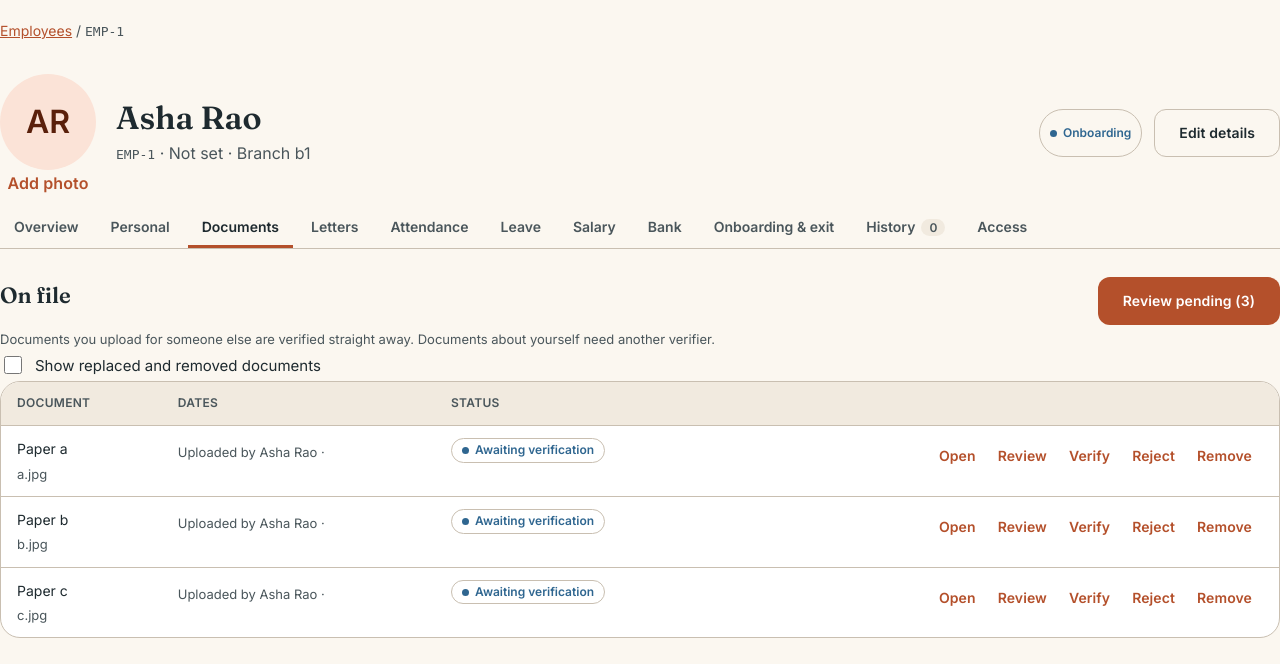
employee profile → Documents › keeps the review dialog open, and its place, when the refresh behind a decision fails
Click the button "Review pending (3)" at point(1189, 301), box [1098,277,1279,325]
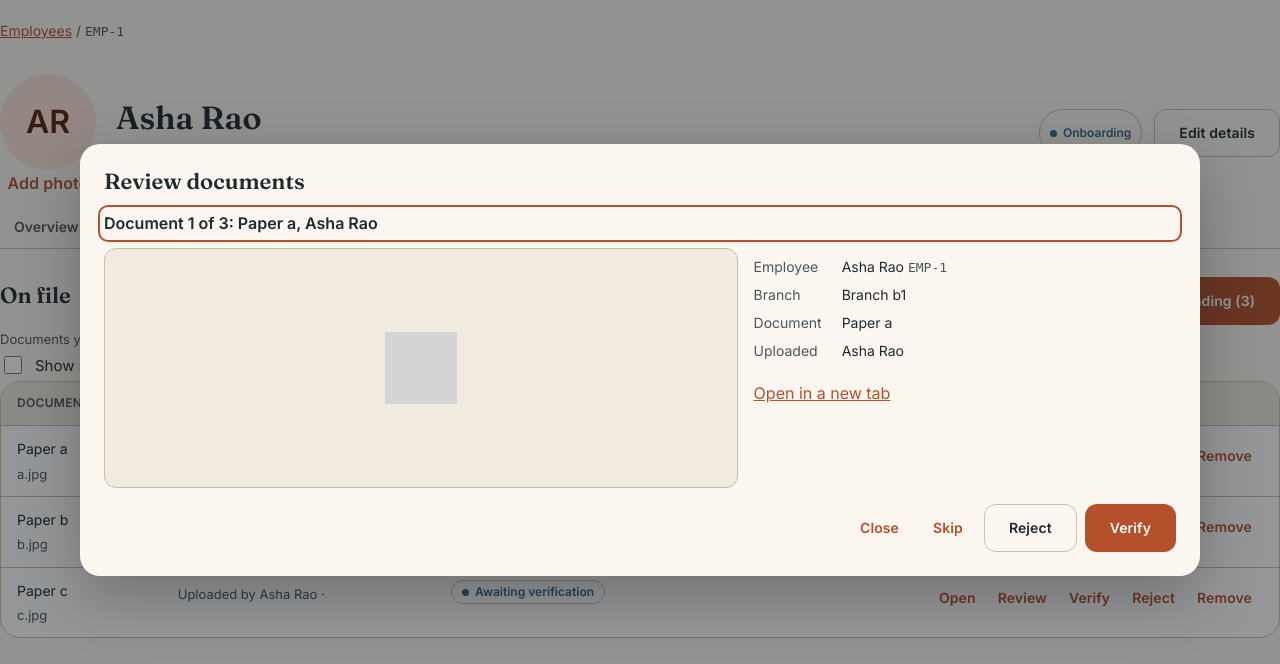
Click the button "Verify" at point(1130, 528), box [1085,504,1176,552]
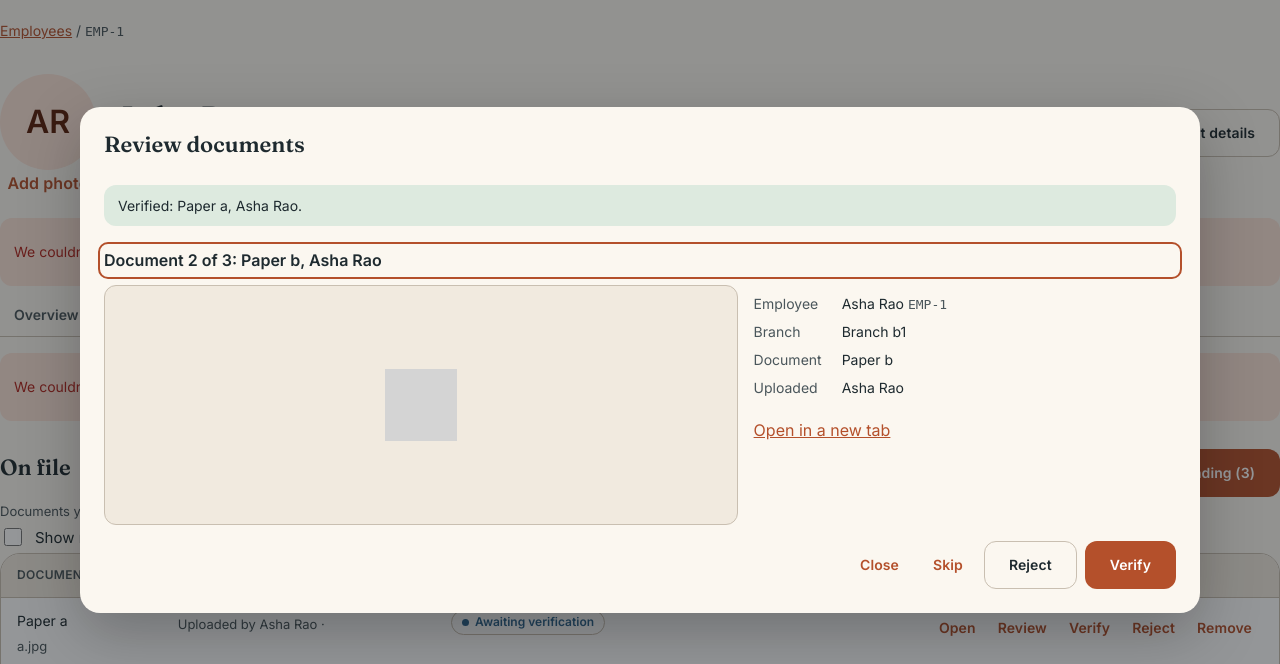
Expected: the dialog is shown
Click the button "Close" at point(880, 565), box [847,541,912,589]
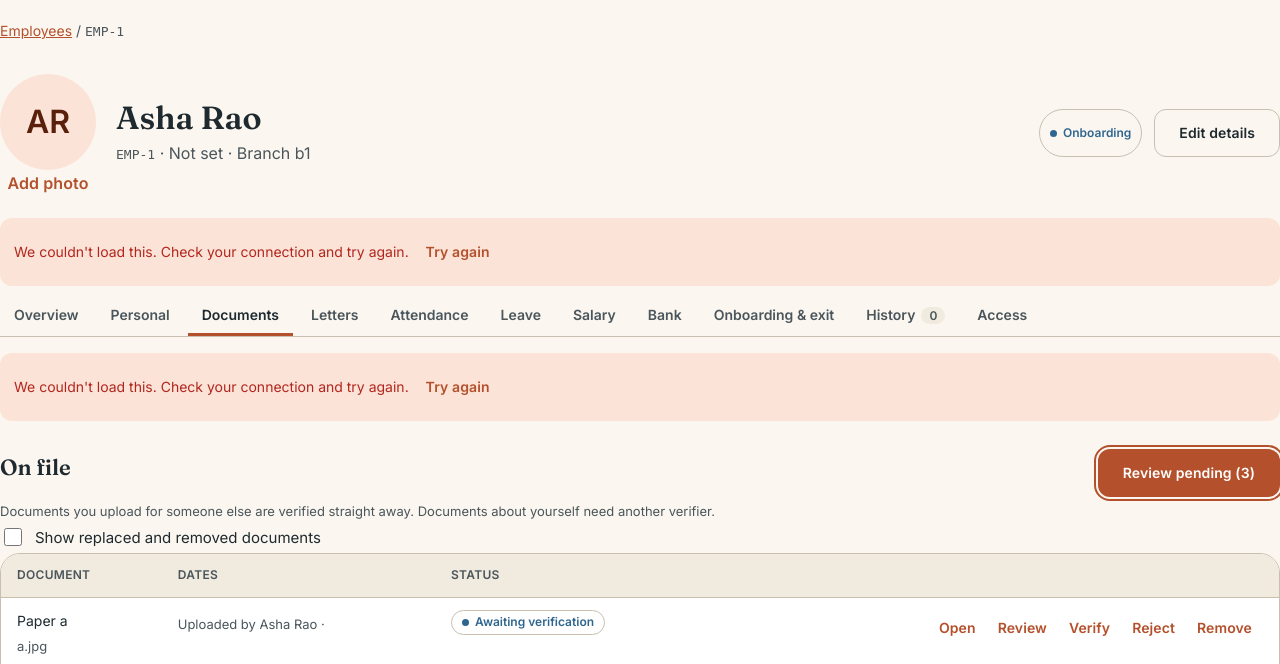
Expected: the heading "Asha Rao" is shown, [116,98,262,137]
Expected: the 1st text "We couldn't load this. Check your connection and try again." is shown, [14,243,409,260]
Click the 1st button "Try again" at point(458, 252), box [413,228,503,276]
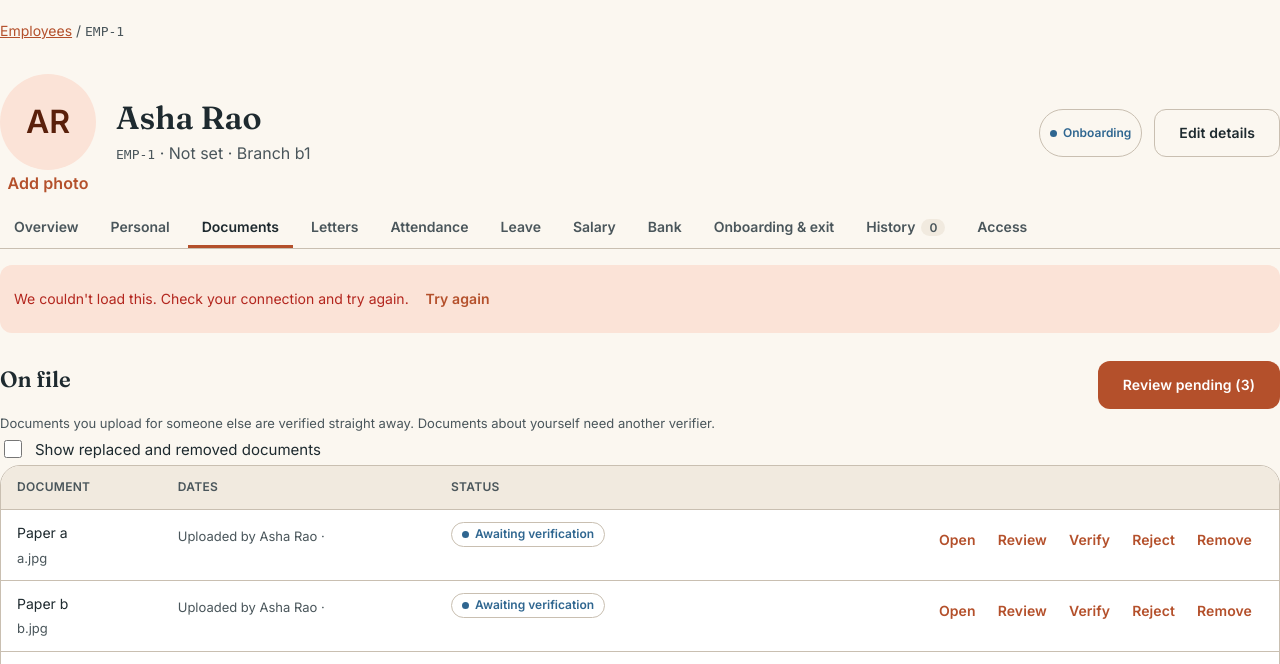
Click the button "Try again" at point(458, 299), box [413,275,503,323]
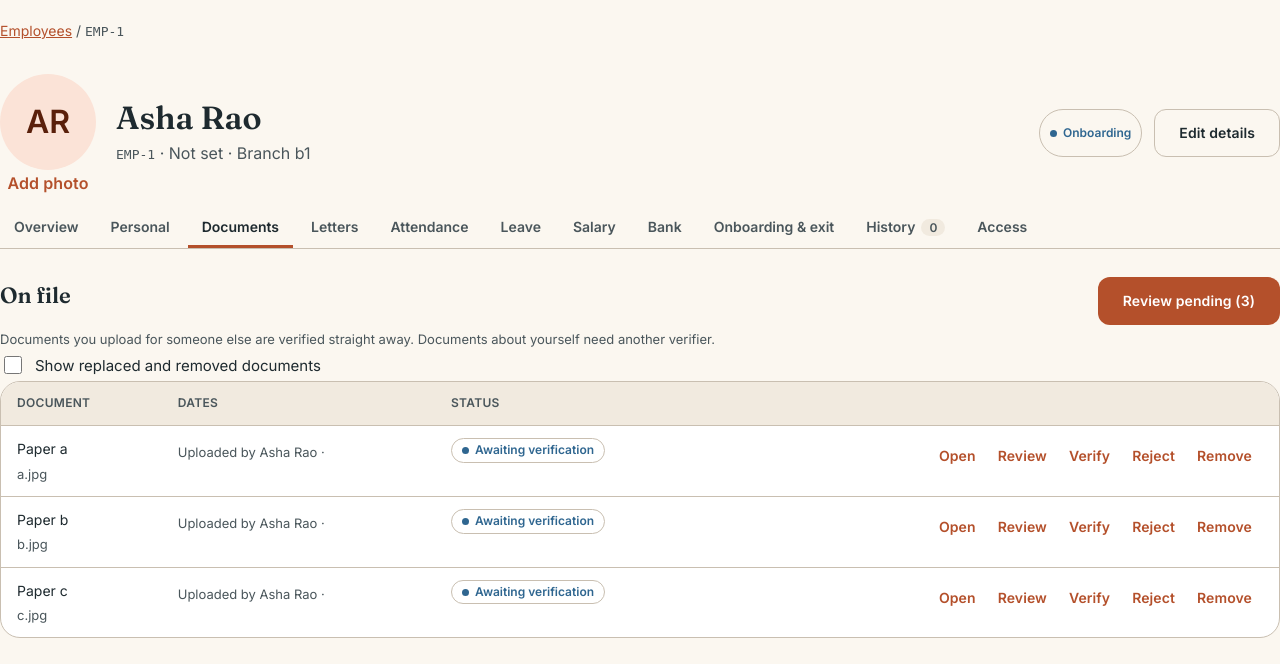
Expected: the text "We couldn't load this. Check your connection and try again." is gone
